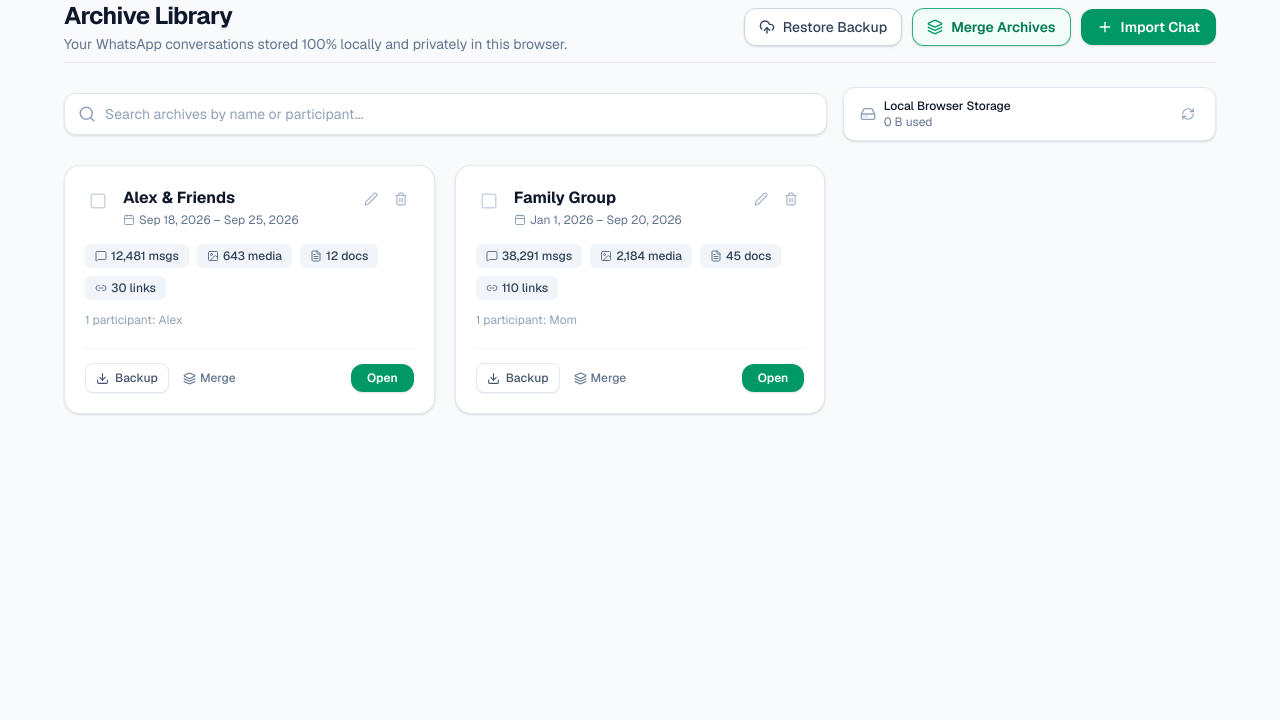
Archive Library & Landing UI Suite › Test 4 — Opens delete confirmation dialog with explicit warning
Expected: the heading "Alex & Friends" is shown, [123, 186, 235, 210]
Click the button titled "Delete archive from storage" next to "Alex & Friends" at (401, 199), box [388, 186, 414, 212]
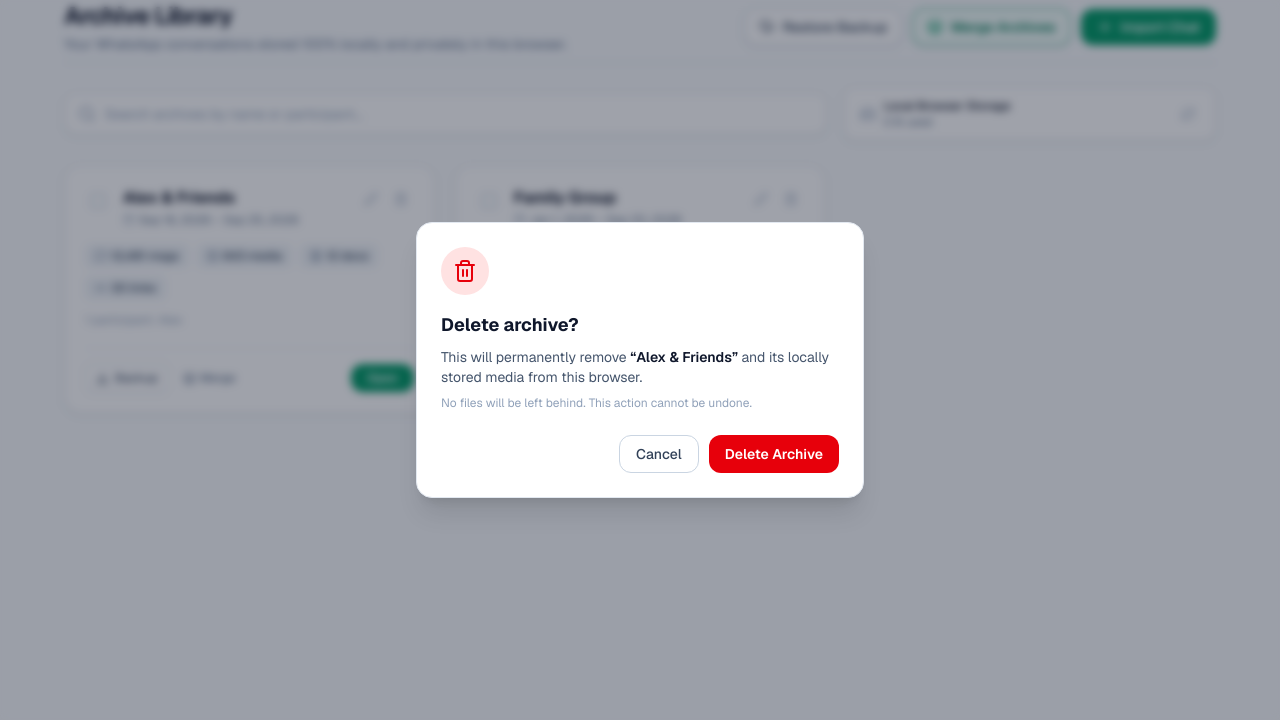
Expected: the heading "Delete archive?" is shown, [441, 313, 579, 336]
Expected: the text "This will permanently remove" is shown, [441, 348, 630, 366]
Expected: the text "Delete Archive" is shown, [725, 444, 823, 464]
